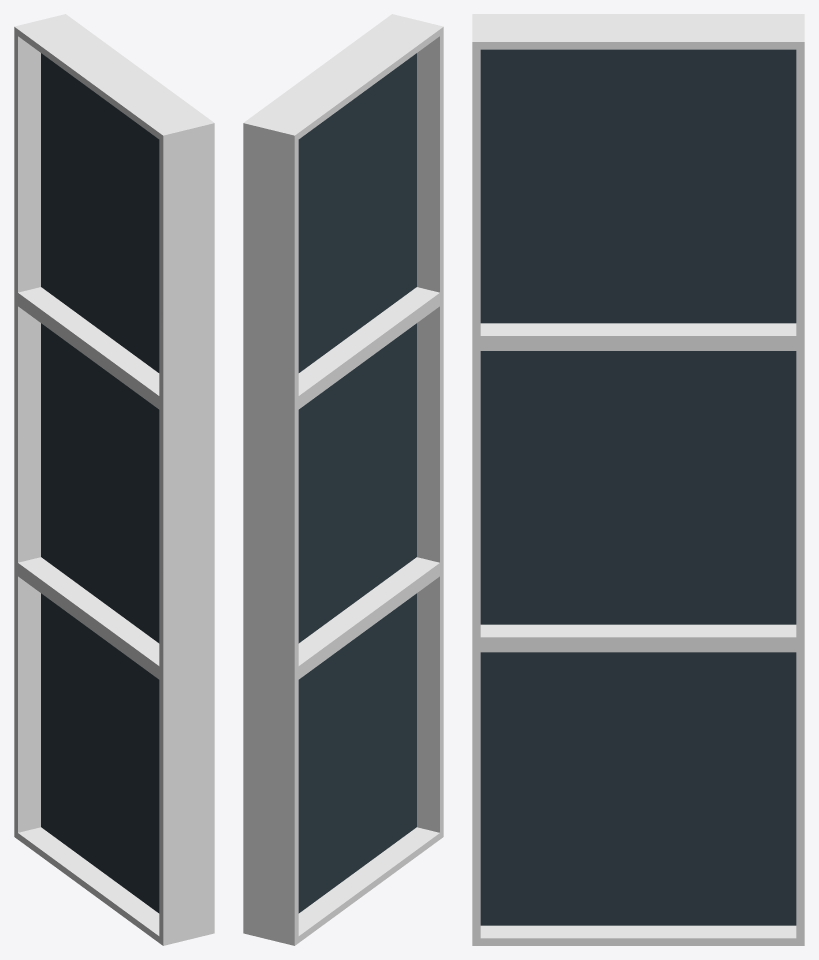
File: Janela1x3.fbx
The picture shows the model from 3 angles, left to right: view 1: azimuth 30°, elevation 25°; view 2: azimuth 150°, elevation 25°; view 3: azimuth 270°, elevation 25°; orthographic projection. The views are drawn at different scales.
Visible parts, largest first — view 1: Janela1x3; view 2: Janela1x3; view 3: Janela1x3.
Boxes of the visible parts, x1,y1,x2,y2 form: Janela1x3: (14,14,214,945); Janela1x3: (243,14,443,945); Janela1x3: (472,14,804,945).
Bounding box in the file's own units: 20 × 300 × 100.
